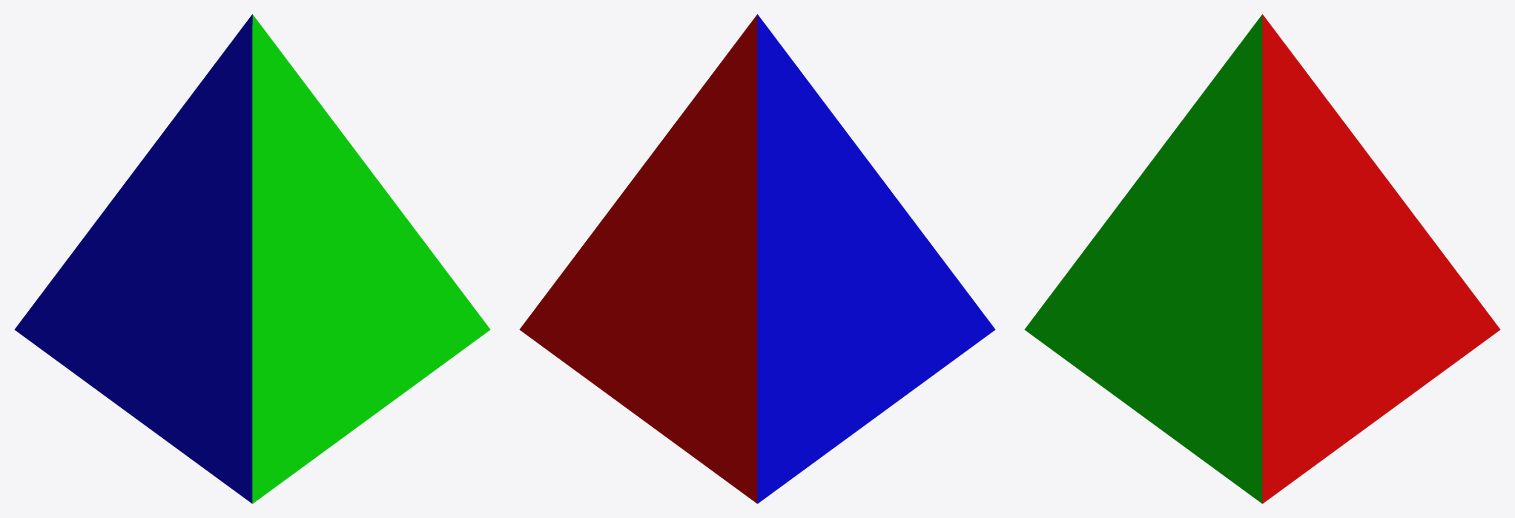
The picture shows the model from 3 angles, left to right: view 1: azimuth 30°, elevation 25°; view 2: azimuth 150°, elevation 25°; view 3: azimuth 270°, elevation 25°; orthographic projection.
Visible parts, largest first — view 1: pCone1; view 2: pCone1; view 3: pCone1.
Boxes of the visible parts, <box> form: pCone1: <box>14,14,490,503</box>; pCone1: <box>519,14,995,503</box>; pCone1: <box>1024,14,1500,503</box>.
Size of the model in its own units: 3 by 3 by 3.46.
